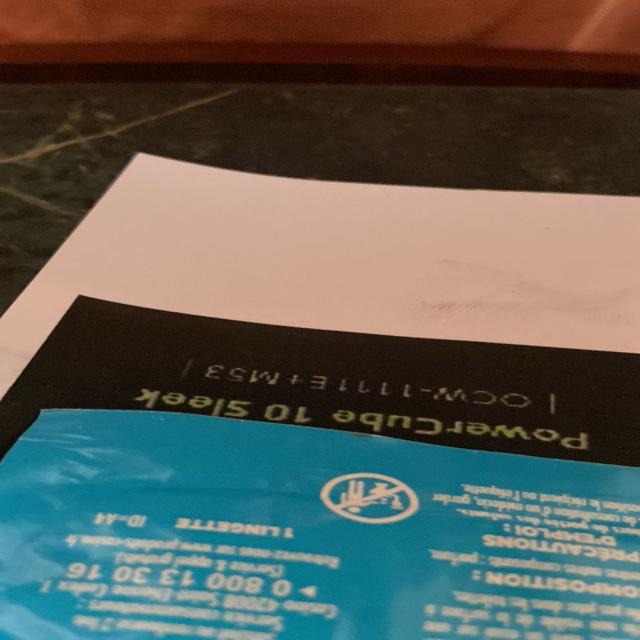PowerCube 10 Sleek OCW-1111ExM53: (123, 355, 603, 462)
